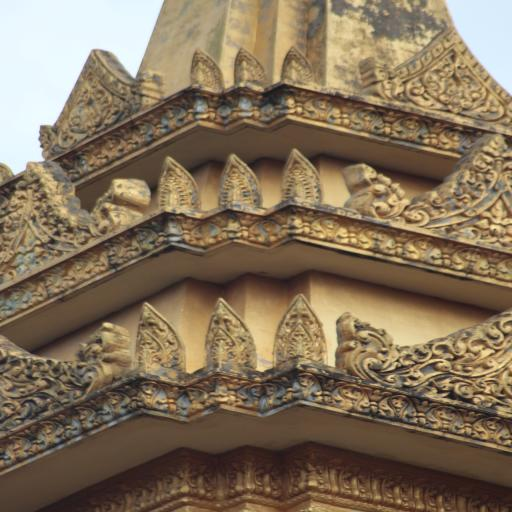la: (342, 311, 512, 392), (0, 320, 127, 413), (400, 46, 508, 120), (441, 144, 512, 242), (0, 181, 68, 270), (49, 73, 126, 140), (208, 294, 260, 367), (278, 290, 328, 362), (138, 304, 184, 369), (350, 162, 401, 219), (92, 177, 137, 234), (155, 155, 200, 210), (219, 150, 262, 204), (283, 148, 322, 200), (372, 469, 416, 509), (288, 457, 331, 495), (467, 409, 510, 446), (424, 401, 468, 436), (334, 463, 372, 502), (354, 221, 398, 254), (258, 374, 295, 412), (189, 50, 222, 92), (300, 93, 343, 125), (384, 113, 428, 144), (187, 212, 227, 246), (372, 390, 414, 422), (406, 233, 448, 265), (280, 45, 314, 84), (168, 384, 212, 414), (265, 89, 305, 122), (450, 243, 492, 274), (330, 380, 368, 414), (223, 91, 261, 124), (126, 221, 161, 256), (419, 478, 455, 512), (266, 206, 298, 244), (226, 456, 257, 495), (128, 380, 169, 409), (289, 368, 323, 402), (32, 414, 64, 450), (231, 210, 267, 242), (162, 459, 187, 504), (313, 214, 349, 245), (137, 471, 164, 511), (431, 124, 468, 153), (190, 462, 220, 497), (234, 49, 264, 83), (350, 107, 384, 137), (256, 460, 284, 496), (68, 400, 95, 436), (96, 236, 123, 272), (232, 378, 262, 410), (96, 389, 126, 420), (186, 90, 213, 124), (3, 431, 30, 462), (69, 249, 91, 286), (3, 284, 28, 316), (35, 268, 58, 301), (100, 130, 124, 161), (209, 374, 232, 406), (109, 481, 132, 512), (160, 98, 178, 135), (71, 145, 90, 178), (133, 116, 150, 148)
